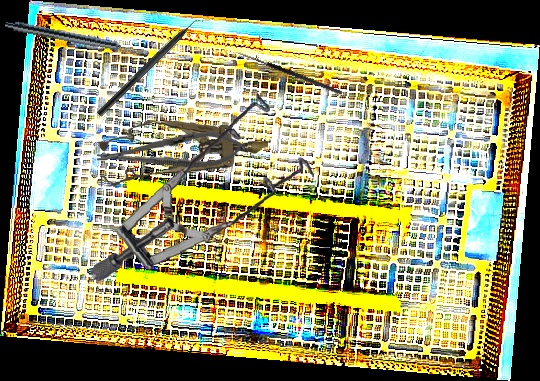Chopper: (95, 8, 213, 125)
Handpiece: (4, 19, 140, 58)
Hook Surgical: (232, 49, 344, 101)
Needle Holder: (95, 127, 247, 176)
Speculum: (77, 87, 321, 284), (96, 112, 271, 189)
